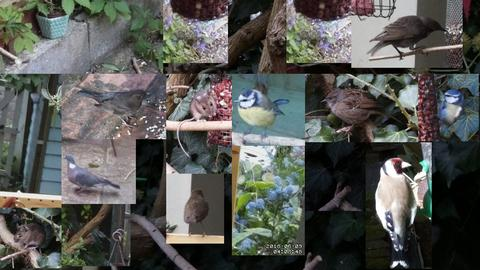blackbird: (76, 89, 151, 130)
blue tit: (234, 89, 290, 143), (433, 89, 464, 134)
dunnock: (320, 89, 403, 136)
goldfinch: (375, 157, 417, 269)
mouse: (176, 89, 217, 159), (14, 223, 46, 254)
robin: (183, 189, 209, 238)
starling: (366, 15, 448, 61)
wood pigeon: (62, 154, 121, 194)
